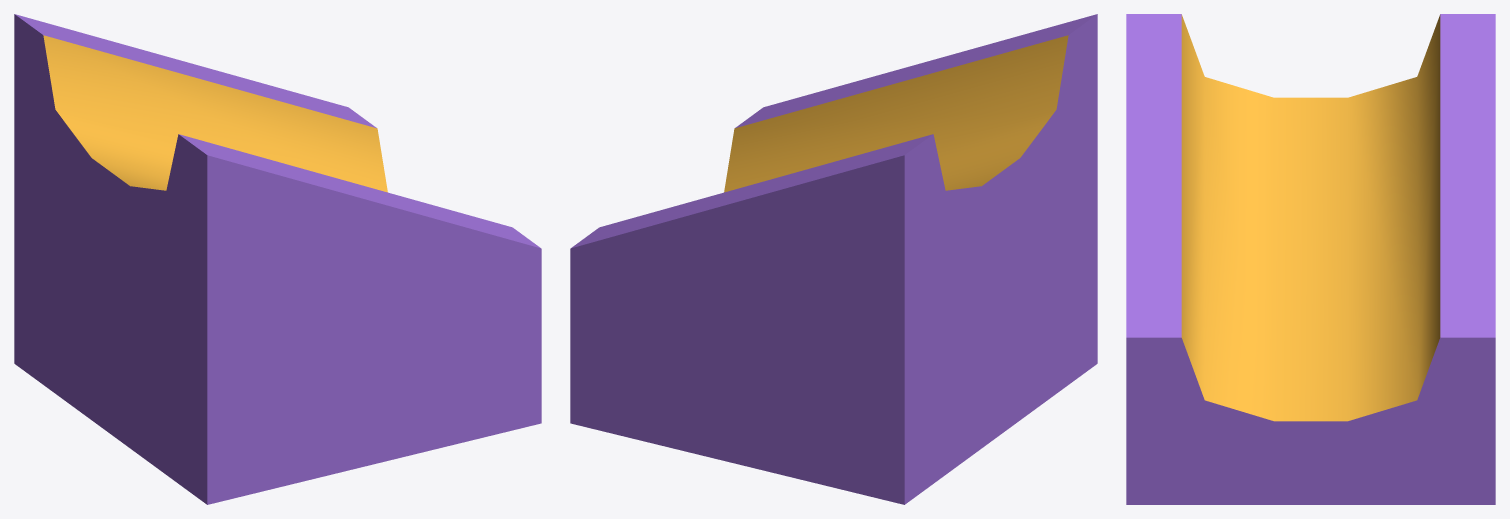
File: slant-solid-b-col.glb
The picture shows the model from 3 angles, left to right: view 1: azimuth 30°, elevation 25°; view 2: azimuth 150°, elevation 25°; view 3: azimuth 270°, elevation 25°; orthographic projection. The views are drawn at different scales.
Parts seen in each view (by area): view 1: slant-solid-b-col; view 2: slant-solid-b-col; view 3: slant-solid-b-col.
Boxes of the visible parts, bbox=[...] form: slant-solid-b-col: bbox=[14, 14, 541, 504]; slant-solid-b-col: bbox=[570, 14, 1097, 504]; slant-solid-b-col: bbox=[1126, 14, 1495, 504].
Size of the model in its own units: 1 by 1 by 1.
Materials: 1 (1 with a texture image).
